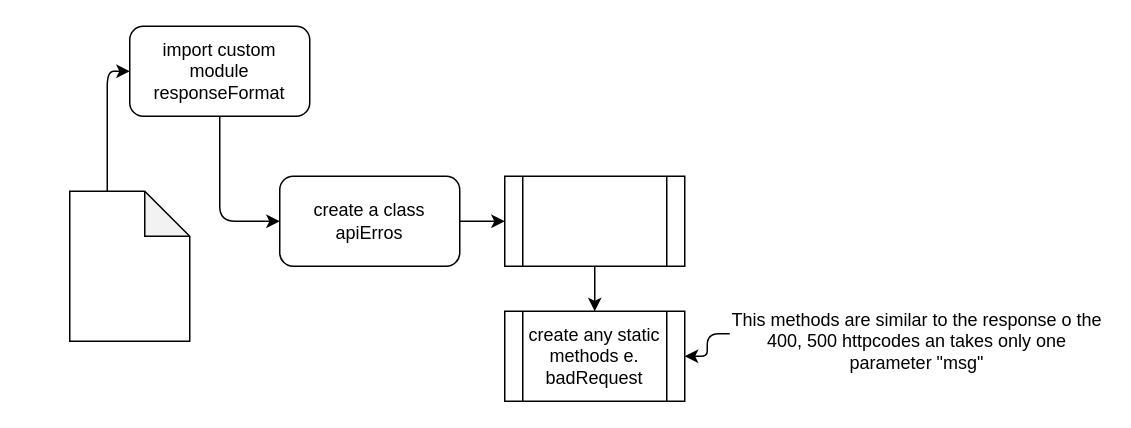
Some shapes in this 1131 by 428 pixel diagram are drawn without their labels. The centre of each missing label's shape, as x and y in pixels:
helpers/responseHelper.js: the point at 129,265
set a constructor with 2 parameter values: the point at 594,220
